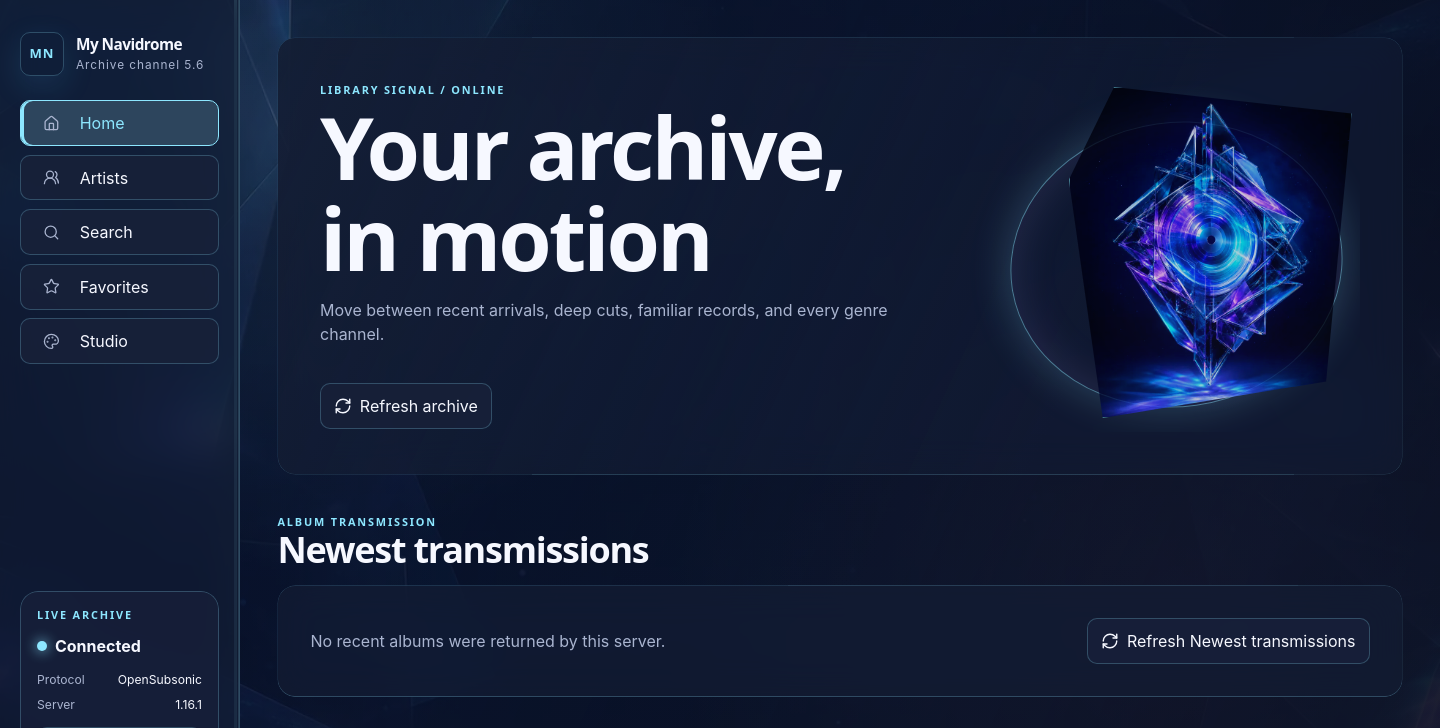
state coordination regressions › does not add a duplicate history entry when the current artist is opened again
This screenshot has width=1440, height=728.
Click the button "Artists".
click(120, 178)  # box [20,155,219,200]
(page scrolled)
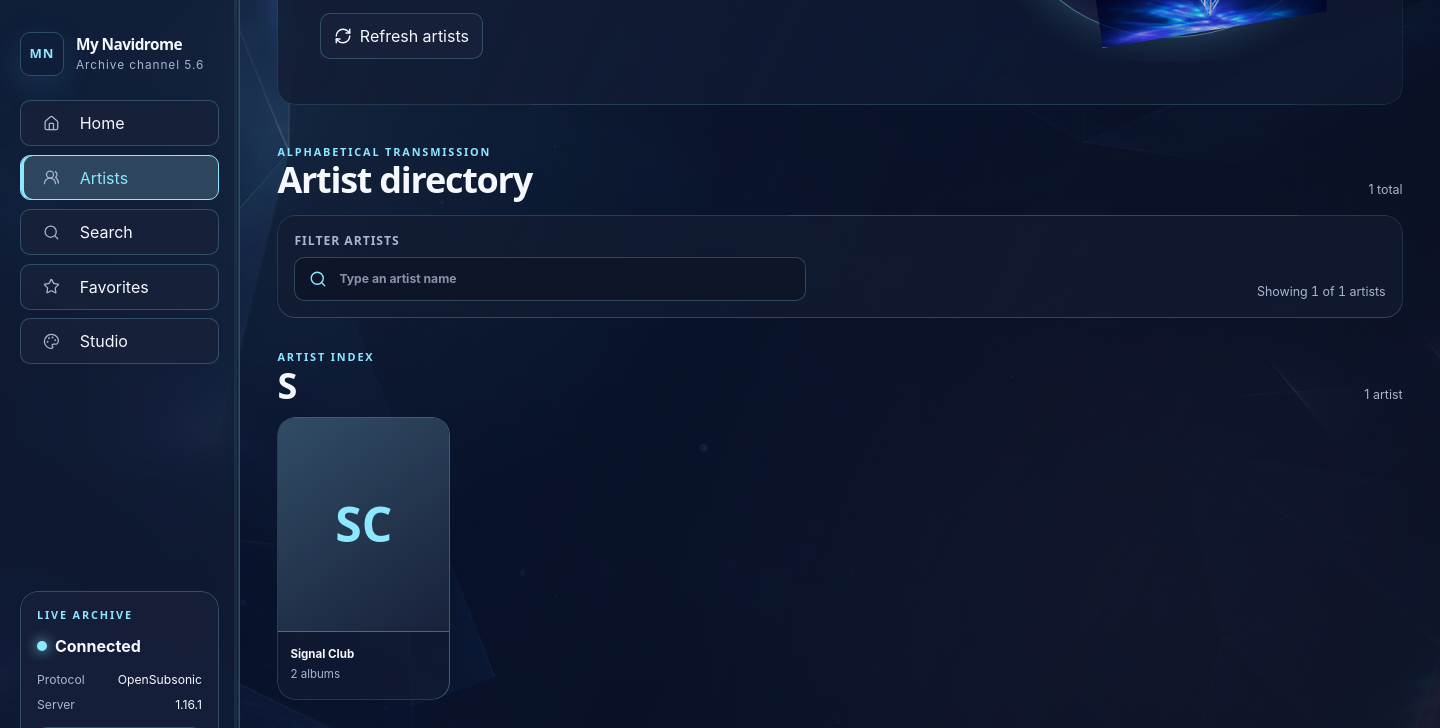
Click the button with aria-label "Open artist Signal Club".
click(364, 558)  # box [277,417,450,700]
(page scrolled)
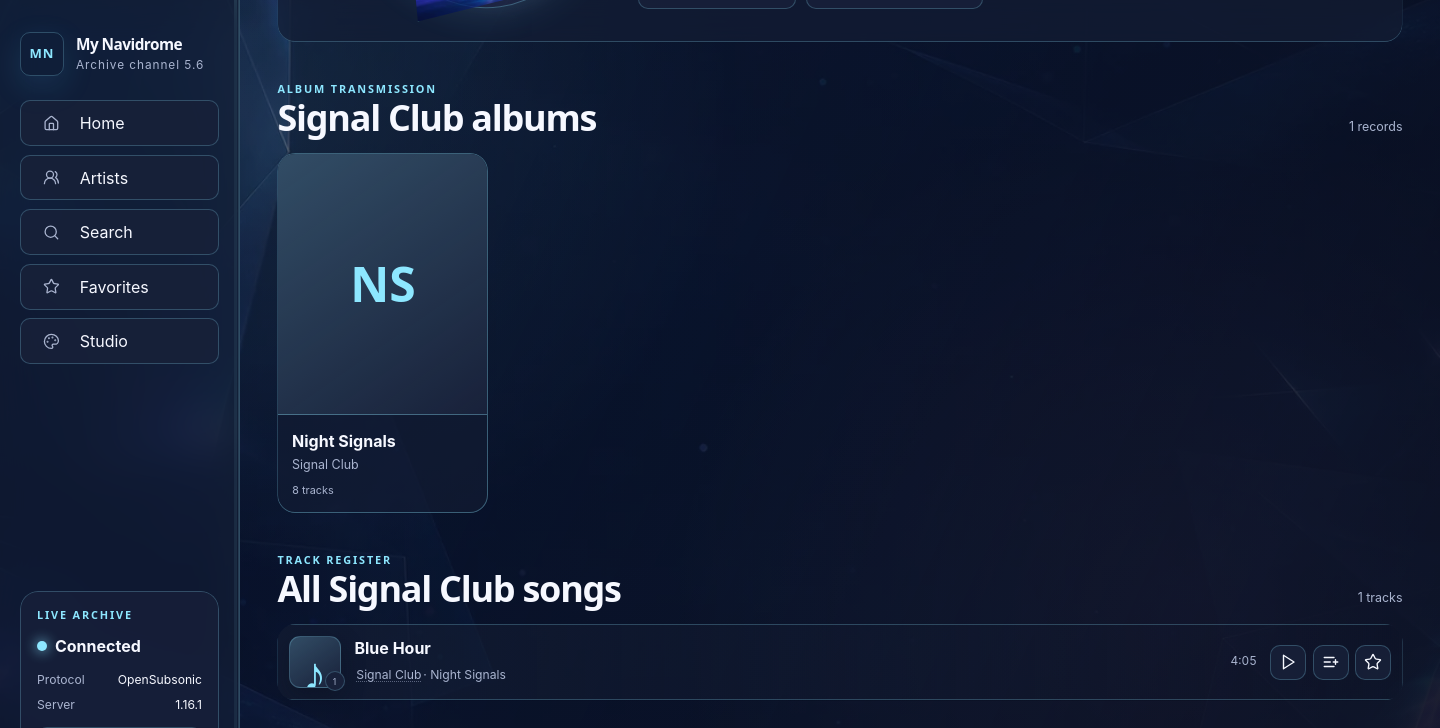
expect the heading "All Signal Club songs" is shown: met, box [277,570,621,608]
Click the button with aria-label "Open artist Signal Club".
click(389, 675)  # box [354,661,423,689]
(page scrolled)
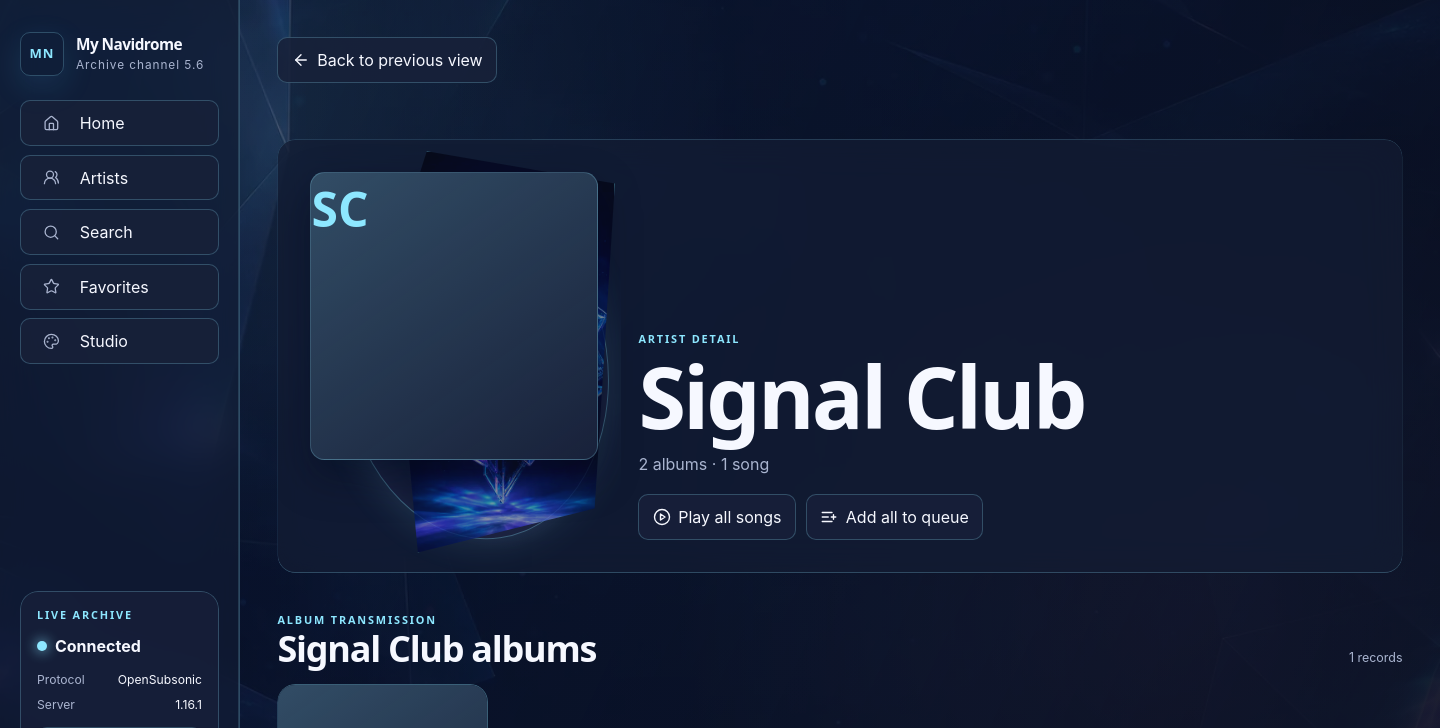
Click the button "Back to previous view".
click(387, 60)  # box [277,37,497,83]
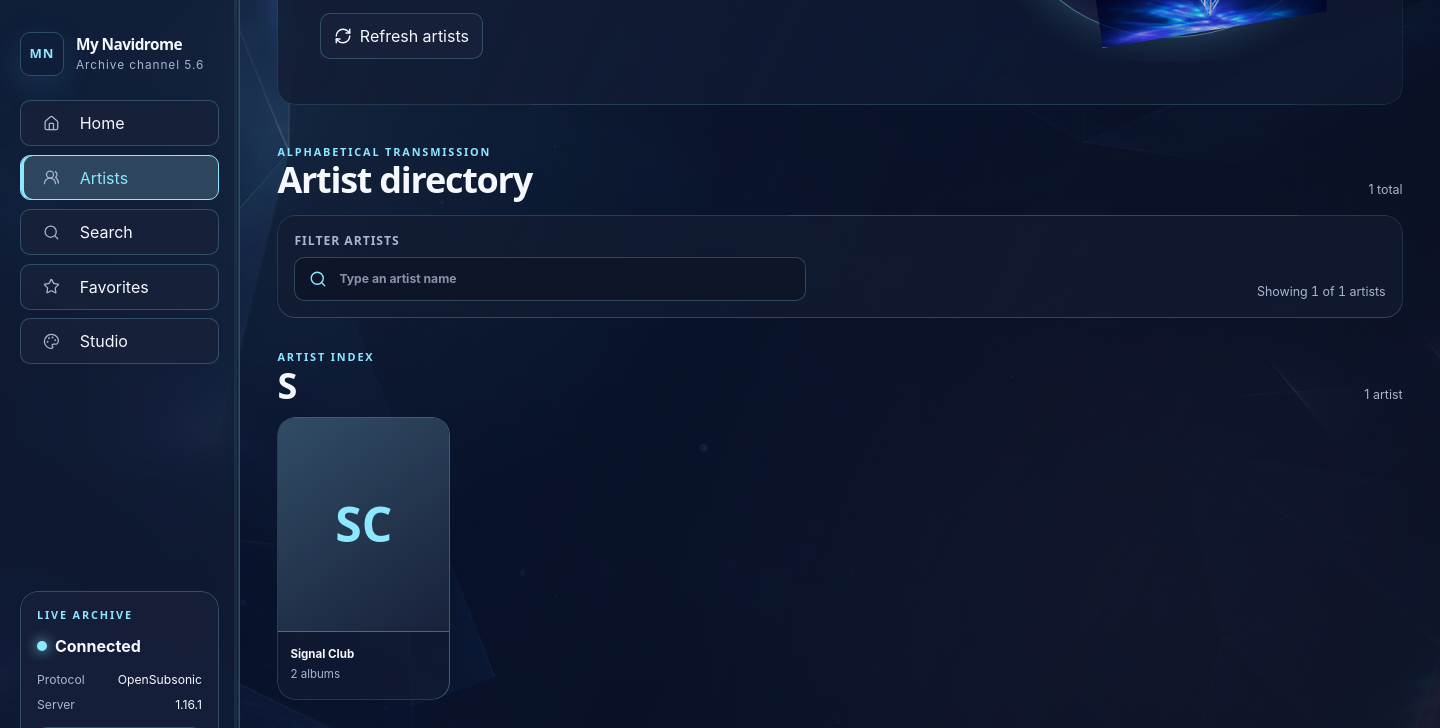
expect the search field labelled "Filter artists" is shown: met, box [294,257,806,301]
